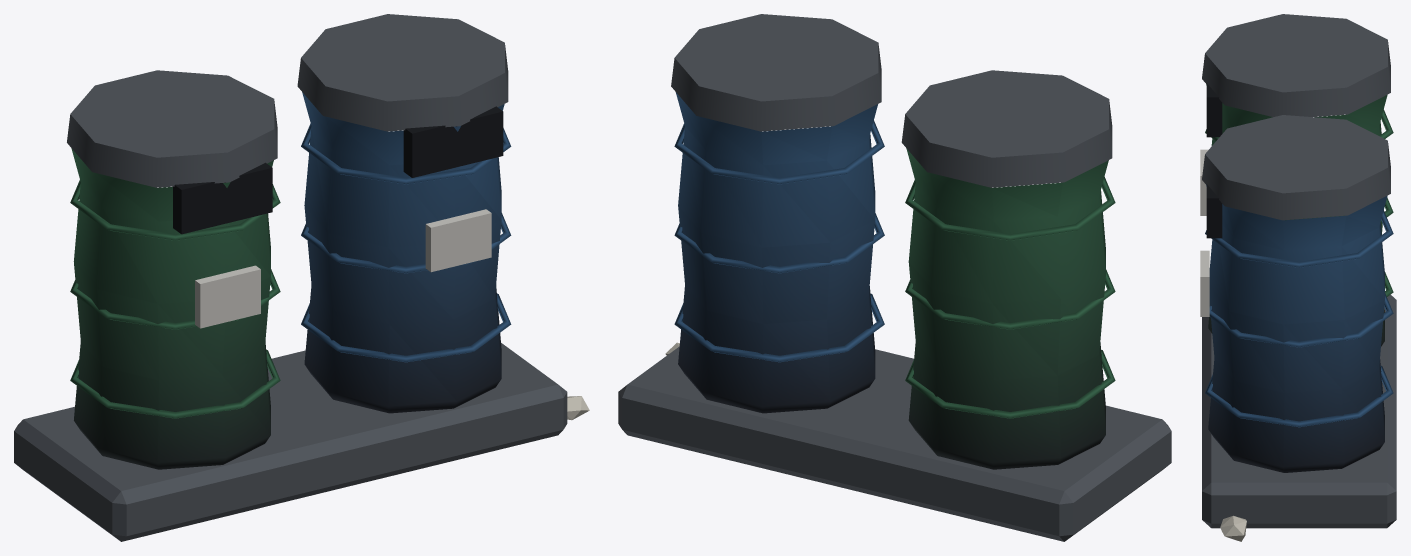
The model's file is recycling_bin_01.glb.
3 renders of one model, left to right at view 1: azimuth 30°, elevation 25°; view 2: azimuth 150°, elevation 25°; view 3: azimuth 270°, elevation 25°, orthographic. The views are drawn at different scales.
Parts seen in each view (by area): view 1: recycling_bin_01; view 2: recycling_bin_01; view 3: recycling_bin_01.
Part boxes in pixels (bbox=[...]): recycling_bin_01: bbox=[14, 14, 589, 541]; recycling_bin_01: bbox=[618, 14, 1171, 541]; recycling_bin_01: bbox=[1200, 14, 1396, 541].
Bounding box in the file's own units: 1.61 × 1.16 × 0.625.
